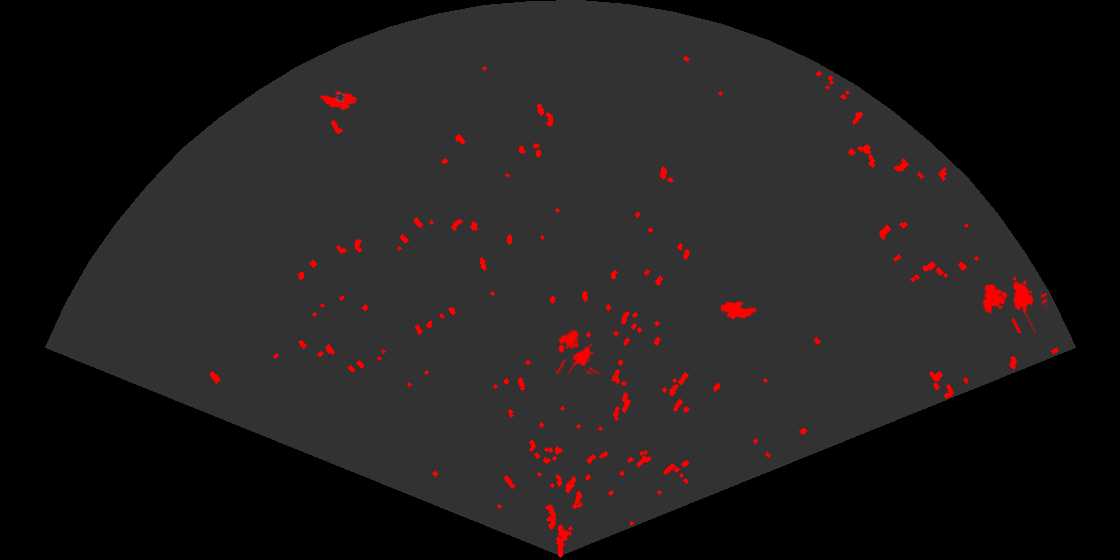AUV: (318, 89, 359, 112), (718, 300, 759, 321)
cage: (981, 275, 1047, 333), (554, 328, 602, 374)
